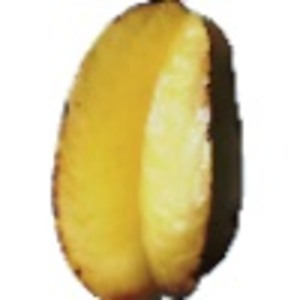carambola: (50, 1, 242, 300)
